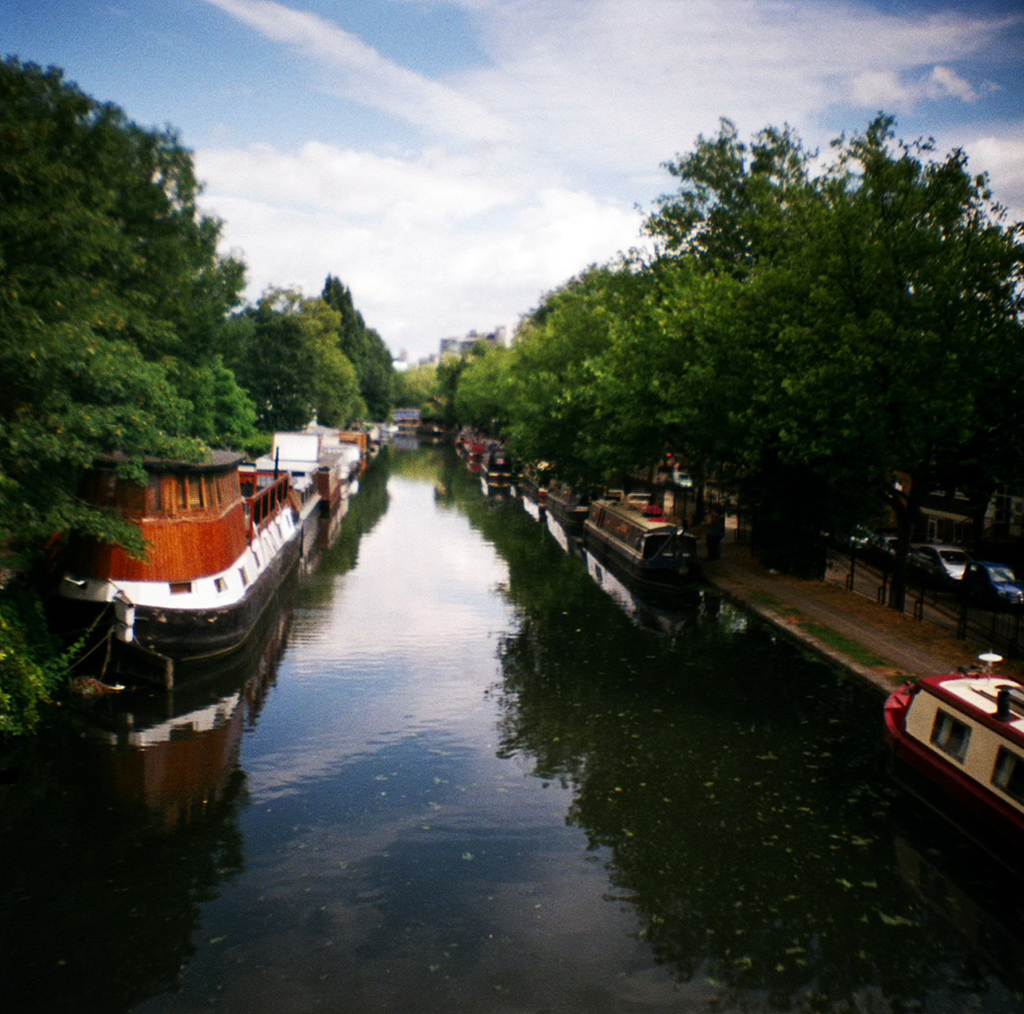boat: (42, 435, 322, 728), (837, 635, 1024, 902), (577, 489, 710, 597)
